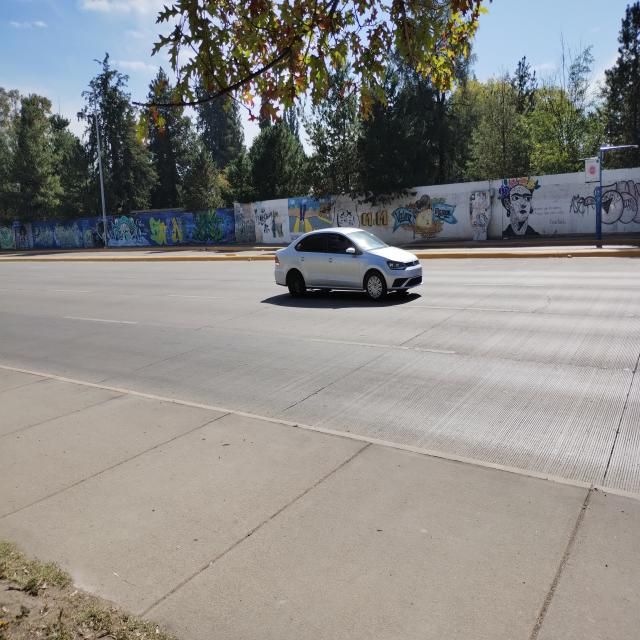Auto: (275, 226, 425, 298)
